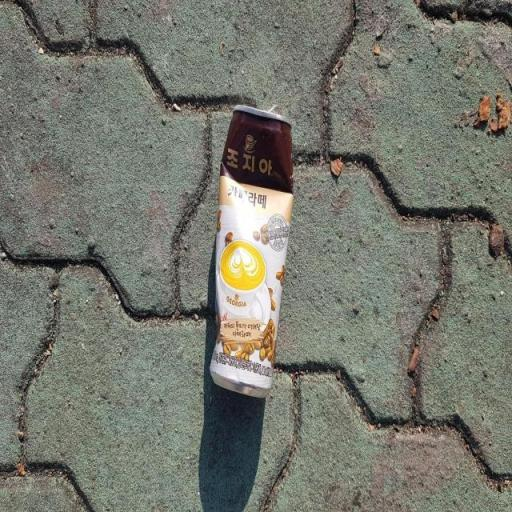metal: (199, 80, 311, 430)
